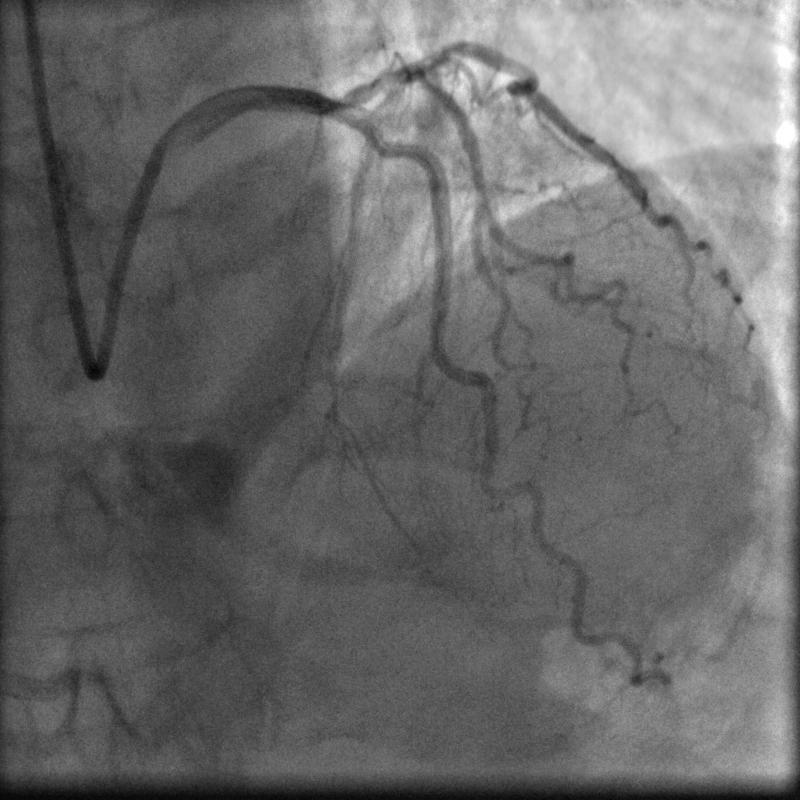Stenosis: (318, 70, 387, 112)
